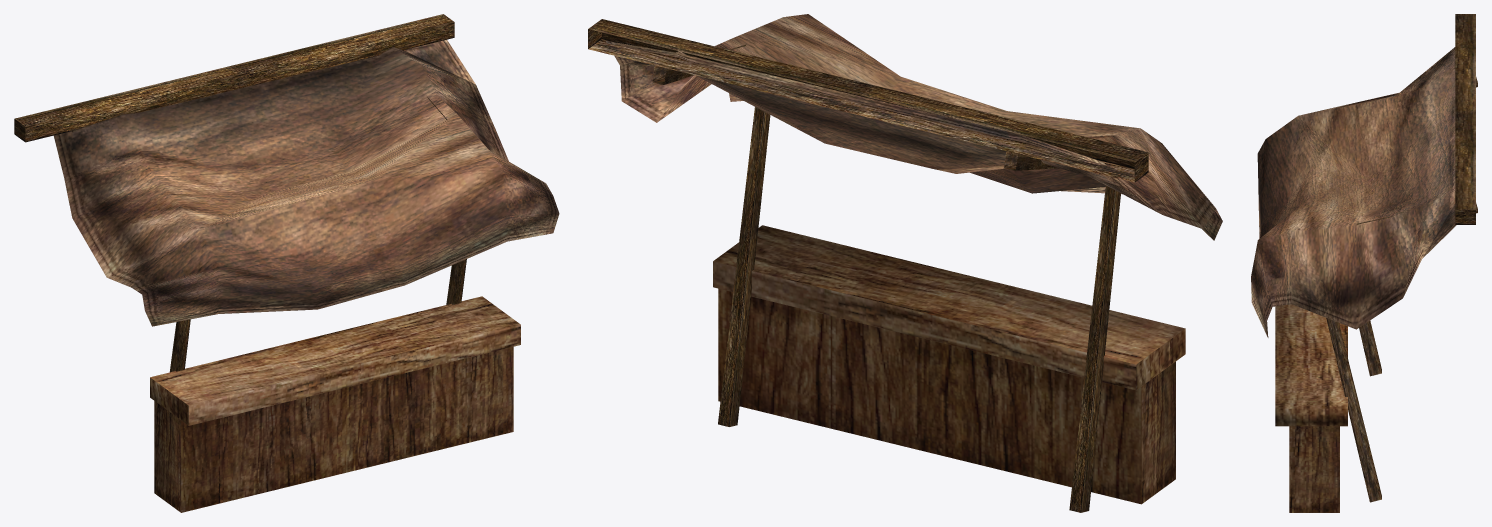
File: hrt_tent2.glb
The picture shows the model from 3 angles, left to right: view 1: azimuth 30°, elevation 25°; view 2: azimuth 150°, elevation 25°; view 3: azimuth 270°, elevation 25°; orthographic projection. The views are drawn at different scales.
Visible parts, largest first — view 1: hrt_tent2-col; view 2: hrt_tent2-col; view 3: hrt_tent2-col.
Part boxes in pixels (bbox=[...]): hrt_tent2-col: bbox=[14, 14, 559, 512]; hrt_tent2-col: bbox=[588, 14, 1222, 512]; hrt_tent2-col: bbox=[1251, 14, 1477, 512].
Size of the model in its own units: 3.99 by 2.92 by 1.9.
Materials: 3 (3 with a texture image).
